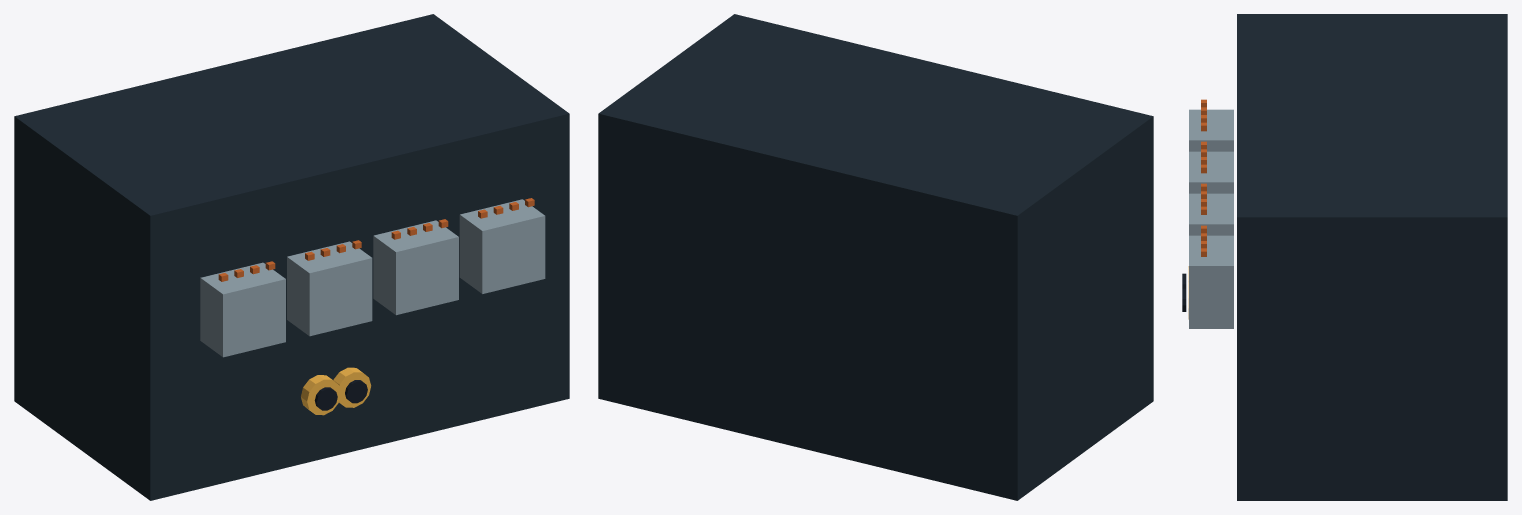
Rendered from 05_L84_ProtectedAvionicsChassis.fbx.
3 renders of one model, left to right at view 1: azimuth 30°, elevation 25°; view 2: azimuth 150°, elevation 25°; view 3: azimuth 270°, elevation 25°, orthographic.
Visible parts, largest first — view 1: L84_ProtectedAvionicsChassis, L84_ProtectedAvionicsChassis_Part_0004, L84_ProtectedAvionicsChassis_Part_0006; view 2: L84_ProtectedAvionicsChassis; view 3: L84_ProtectedAvionicsChassis.
Boxes of the visible parts, x1,y1,x2,y2 form: L84_ProtectedAvionicsChassis: (14,14,569,500); L84_ProtectedAvionicsChassis_Part_0004: (301,375,340,415); L84_ProtectedAvionicsChassis_Part_0006: (333,367,371,407); L84_ProtectedAvionicsChassis: (598,14,1153,500); L84_ProtectedAvionicsChassis: (1189,14,1507,500).
Bounding box in the file's own units: 160 × 104 × 108.
